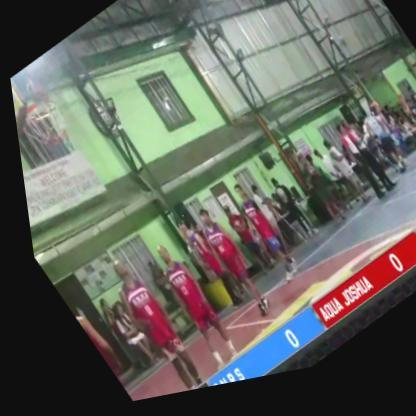rim: (8, 68, 92, 189)
